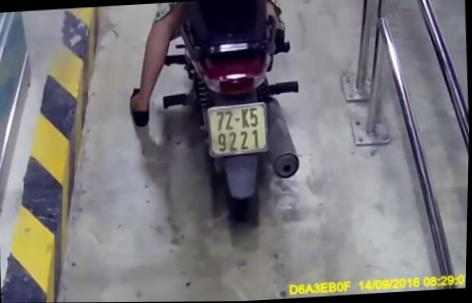LP: (206, 101, 272, 157)
